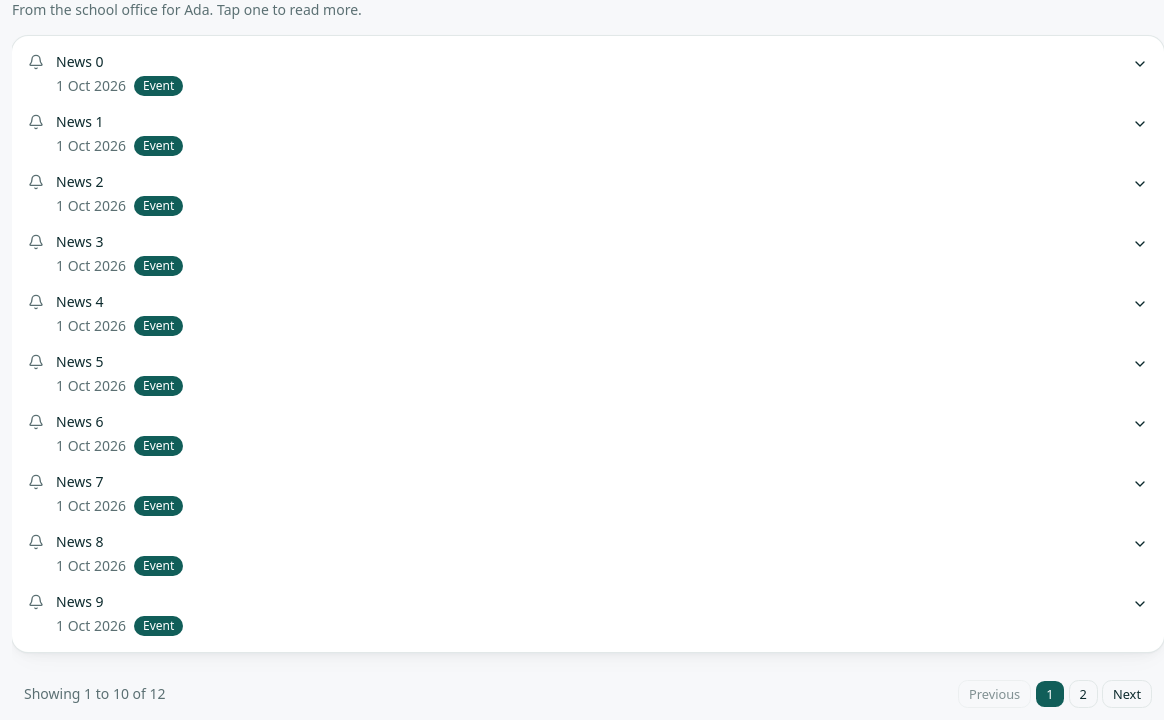
Test: AnnouncementsPage › pages through the list and asks the API for the next page
The width and height of the screenshot is (1164, 720).
(page scrolled)
Expected: the text "News 0" is shown, left=56, top=52, right=104, bottom=71
Expected: the text "Showing 1 to 10 of 12" is shown, left=24, top=684, right=166, bottom=704
Click the button "Next" at (1127, 694), box left=1102, top=680, right=1152, bottom=708
(page scrolled)
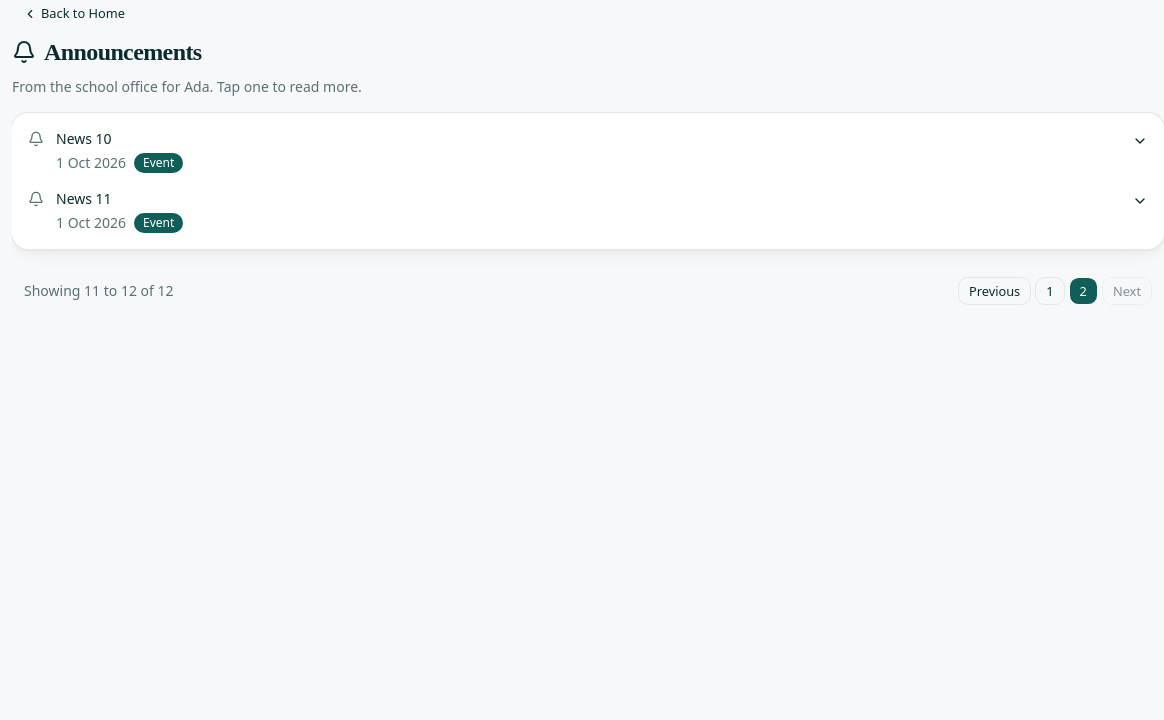
Now the text "News 10" is shown, box left=56, top=129, right=112, bottom=148
Now the button "News 0" is gone
